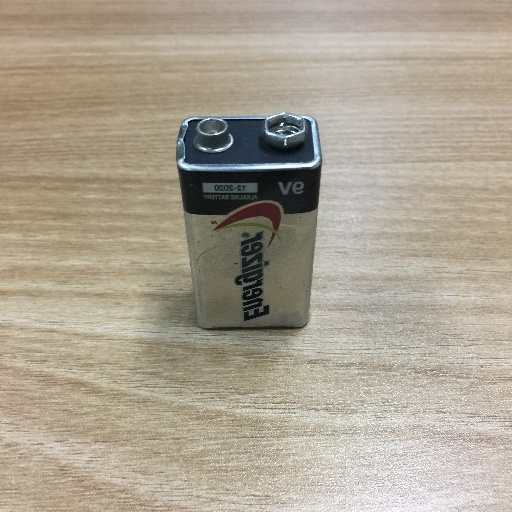Battery_3: (167, 106, 330, 354)
